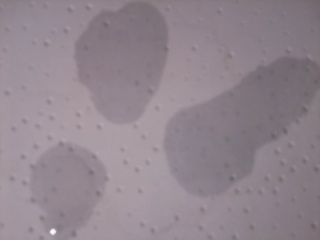Water_detected: (180, 91, 260, 178), (78, 20, 156, 101), (47, 152, 93, 214)
